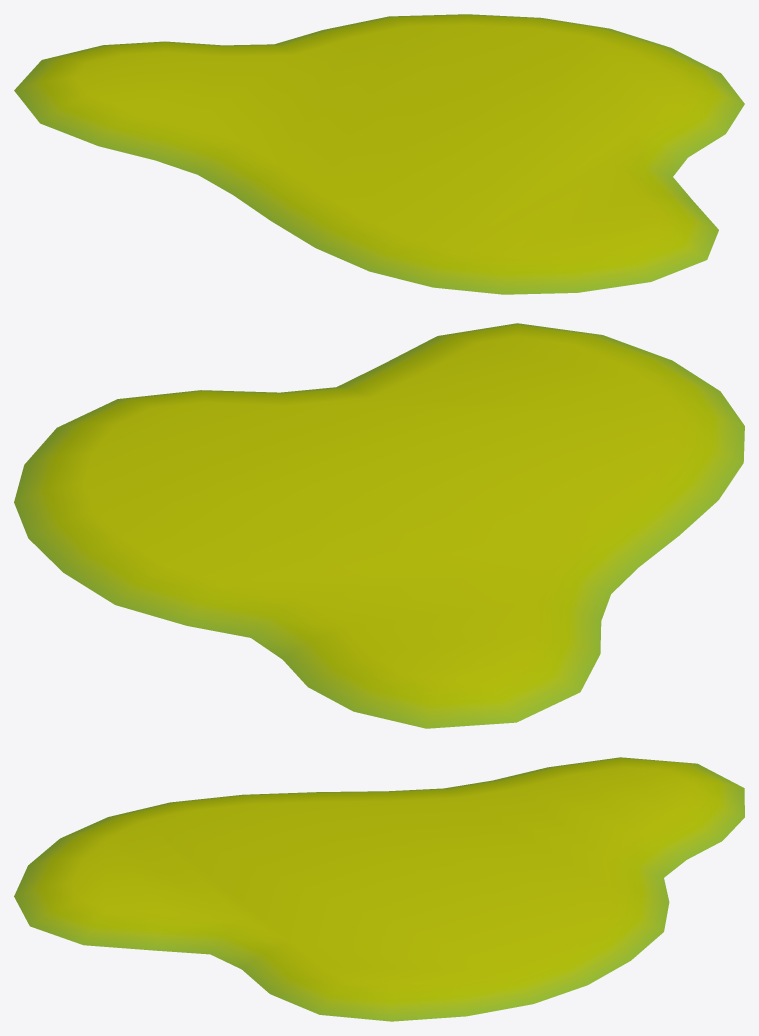
The model's file is puddle2.fbx.
3 renders of one model, top to bottom at view 1: azimuth 30°, elevation 25°; view 2: azimuth 150°, elevation 25°; view 3: azimuth 270°, elevation 25°, orthographic. The views are drawn at different scales.
Parts seen in each view (by area): view 1: puddle2; view 2: puddle2; view 3: puddle2.
Part boxes in pixels (left/top/right/bottom): puddle2: left=14, top=14, right=744, bottom=294; puddle2: left=14, top=323, right=744, bottom=728; puddle2: left=14, top=757, right=744, bottom=1021.
Size of the model in its own units: 549 by 13.67 by 642.
